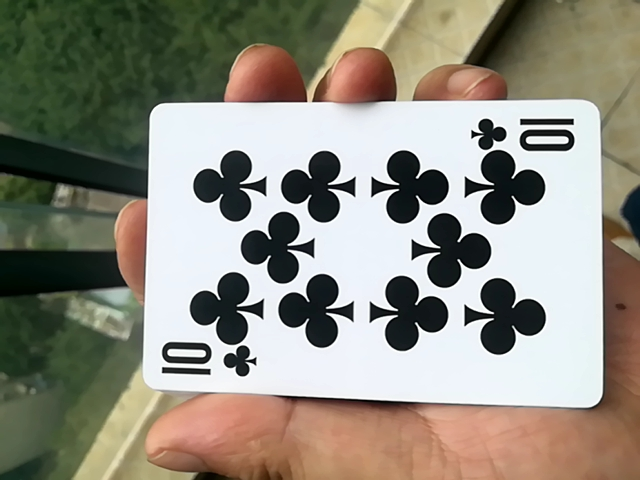mh 10: (131, 109, 597, 419)
